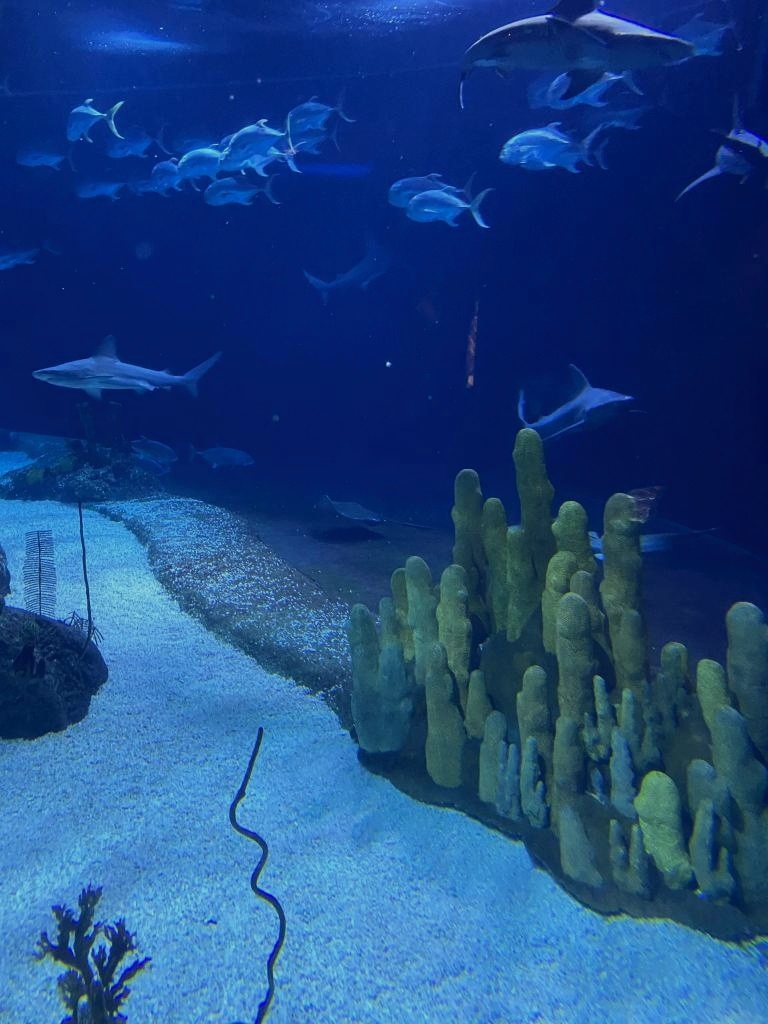fish: (548, 60, 644, 112), (499, 128, 605, 166), (284, 84, 358, 134), (407, 186, 497, 226), (390, 170, 478, 208), (217, 141, 309, 177), (521, 137, 613, 173), (204, 173, 282, 209), (177, 143, 246, 183), (66, 98, 126, 142), (77, 166, 147, 202), (1, 232, 63, 272), (228, 128, 296, 162), (187, 440, 254, 472), (108, 126, 174, 158), (17, 140, 81, 172), (281, 123, 343, 155), (151, 156, 201, 192), (123, 436, 179, 460)
shark: (458, 2, 694, 110), (34, 333, 228, 403), (520, 363, 650, 445), (676, 92, 768, 202), (306, 230, 400, 306)
stingray: (315, 492, 387, 526)
